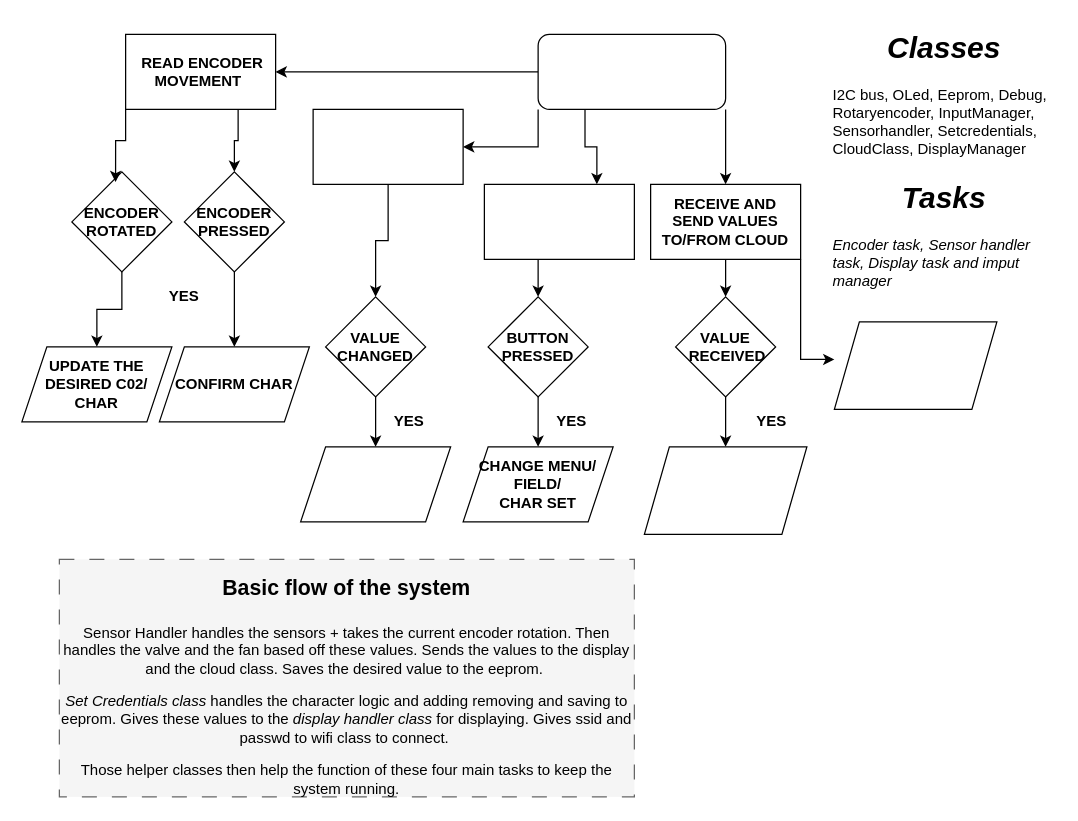
Some shapes in this 1078 by 821 pixel diagram are drawn without their labels. Here are the shapes that lost their labels. From the top down, the centre of each, then its label:
At pixel 631 71: "Create classes and tasks".
At pixel 387 146: "DISPLAY INFO / WIFI MENU".
At pixel 558 221: "READ BUTTON INPUTS".
At pixel 915 365: "UPDATE CLOUD IN REGULAR INTERVAL".
At pixel 375 484: "UPDATE DISPLAY".
At pixel 725 490: "UPDATE LOCAL VALUE".
